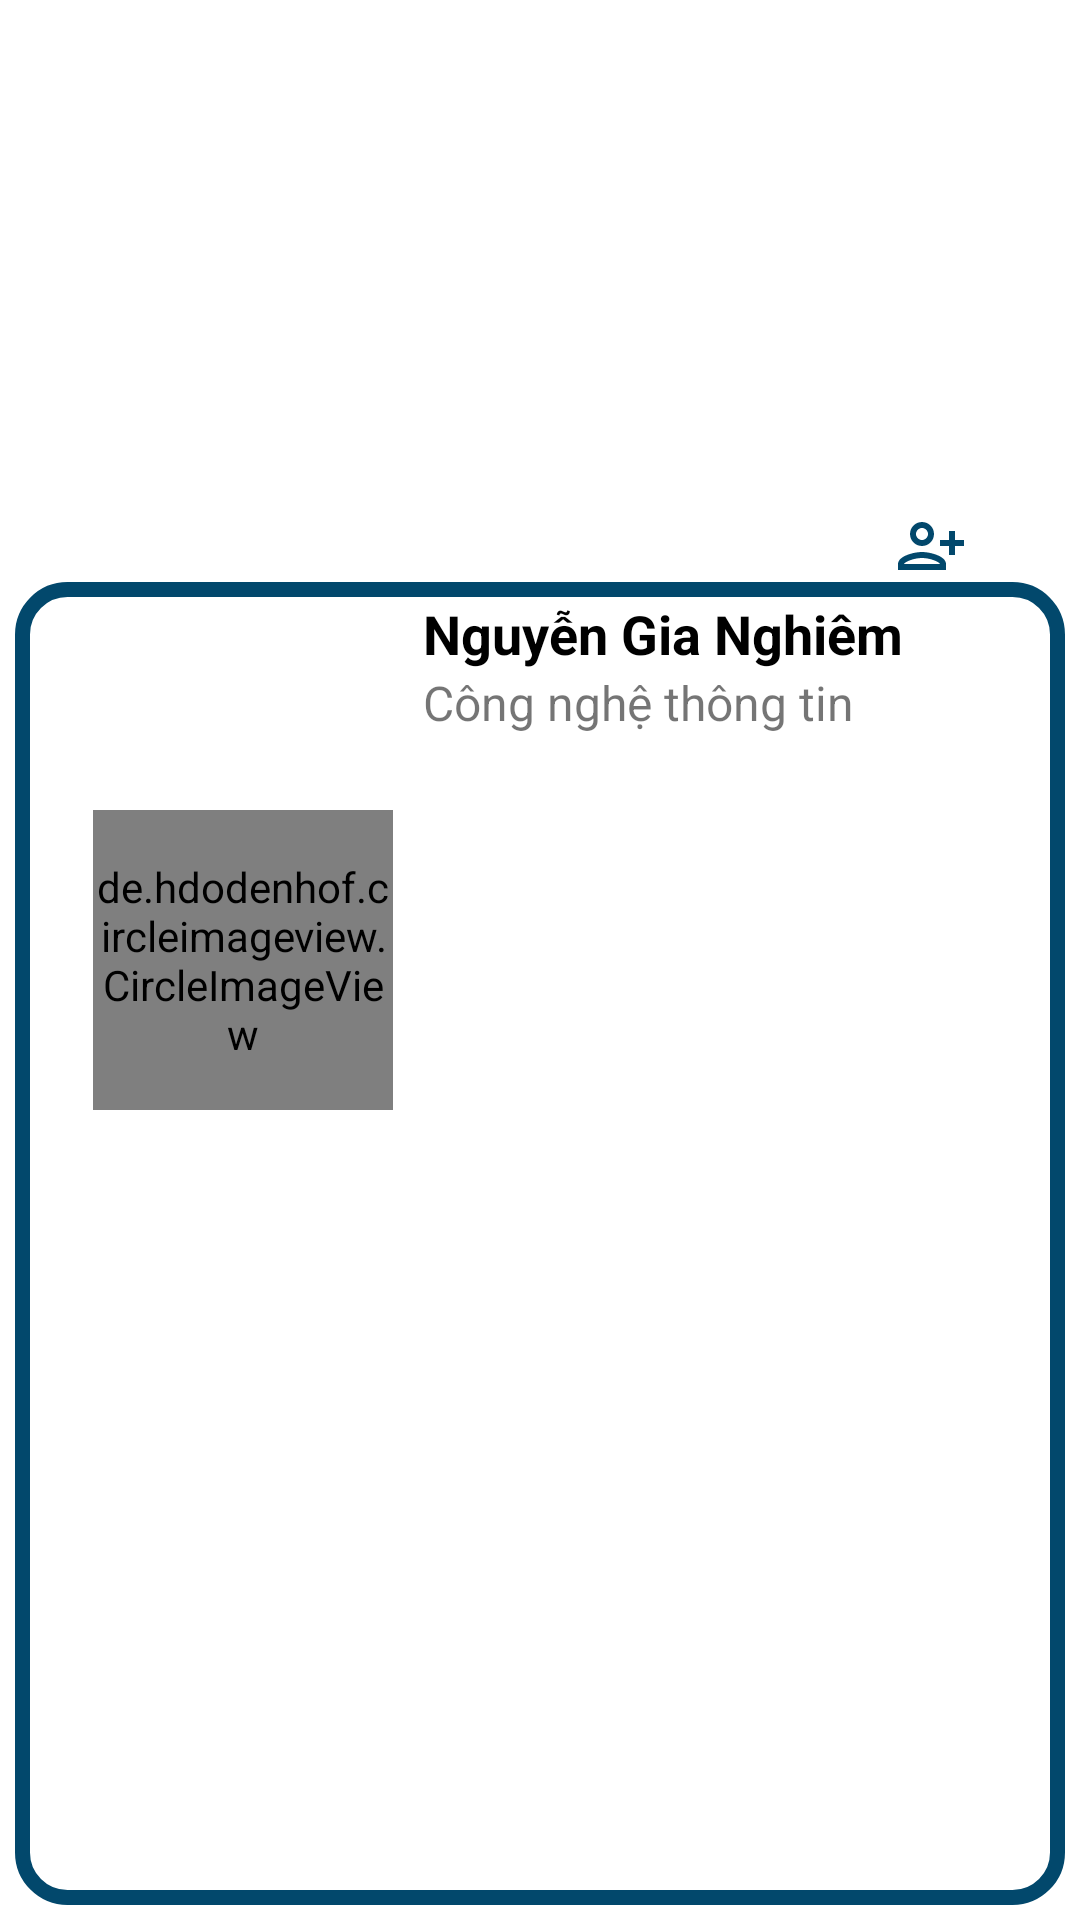

Named icons in this screenshot (1080w x 1920h) and their centers, point (x, y):
add fr: point (931, 546)
